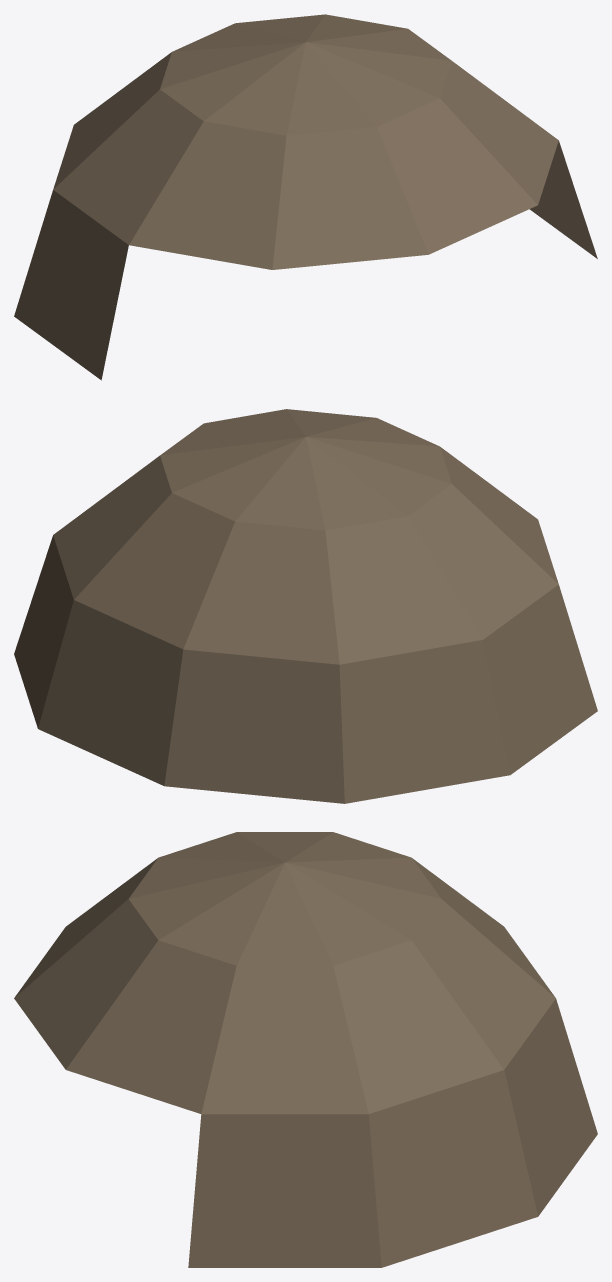
The model's file is short_neat.glb.
3 renders of one model, top to bottom at view 1: azimuth 30°, elevation 25°; view 2: azimuth 150°, elevation 25°; view 3: azimuth 270°, elevation 25°, orthographic. The views are drawn at different scales.
Parts seen in each view (by area): view 1: cap; view 2: cap; view 3: cap.
Part boxes in pixels (x1,y1,x2,y2): cap: (14,14,597,380); cap: (14,409,597,803); cap: (14,832,597,1267).
Size of the model in its own units: 0.5136 by 0.243 by 0.4736.
